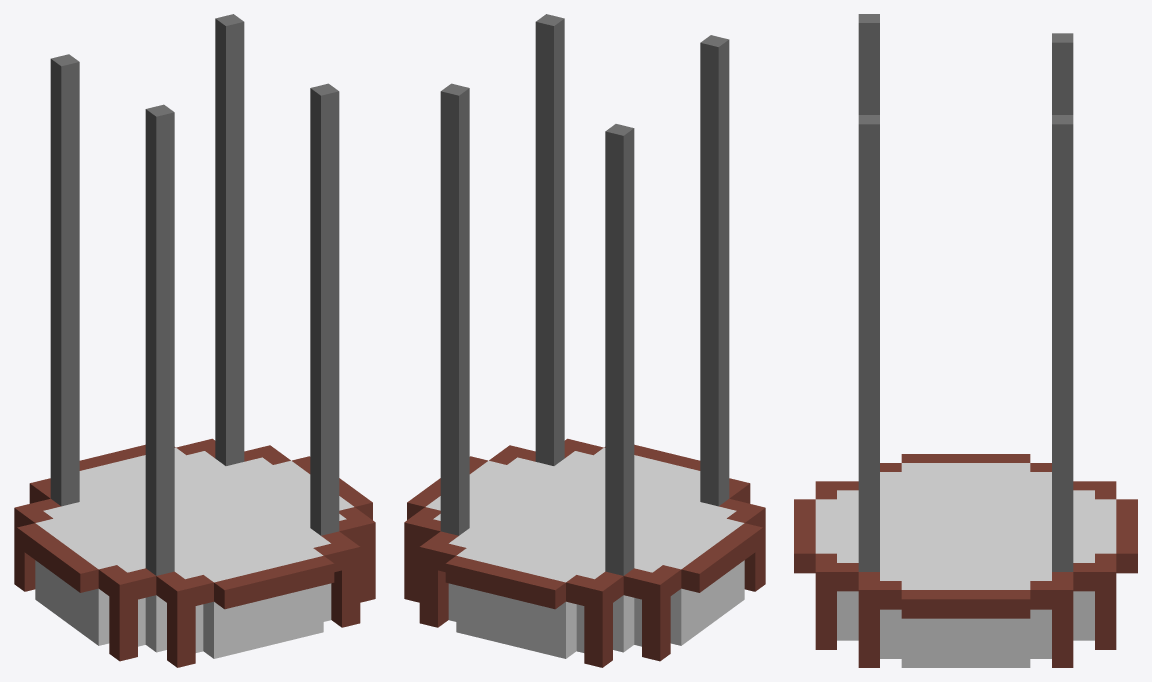
The model's file is plant_tomato_base.vox.obj.
The picture shows the model from 3 angles, left to right: view 1: azimuth 30°, elevation 25°; view 2: azimuth 150°, elevation 25°; view 3: azimuth 270°, elevation 25°; orthographic projection.
Bounding box in the file's own units: 1.6 × 2.8 × 1.6.
Materials: 1 (1 with a texture image).
